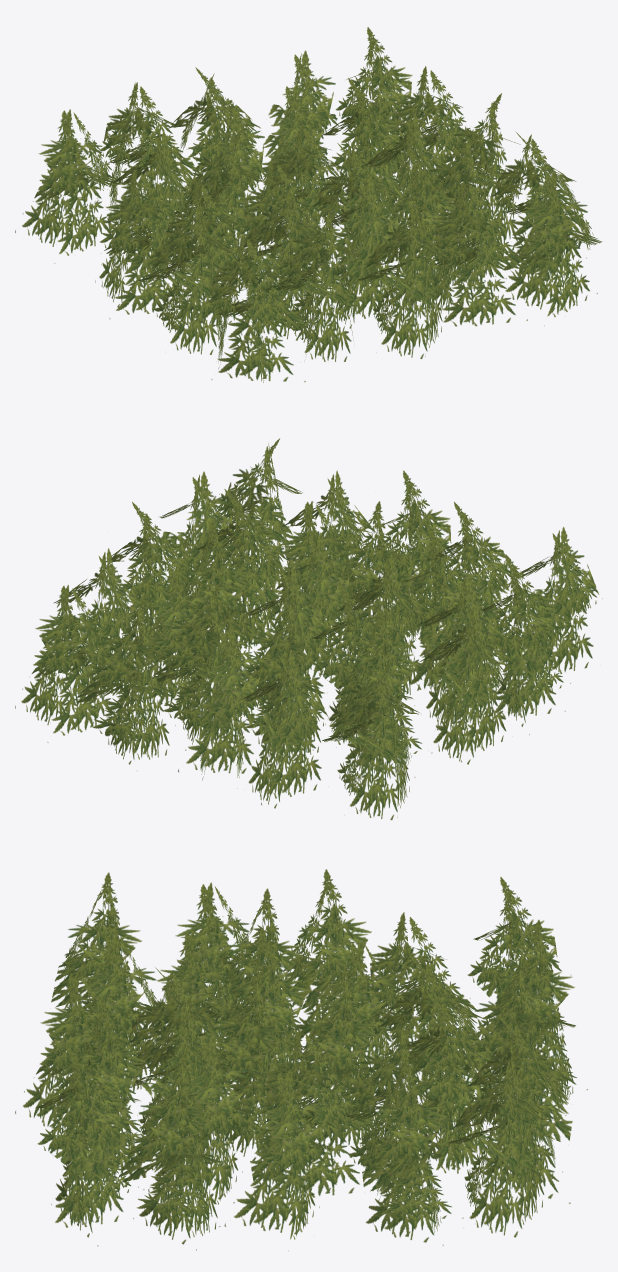
The model's file is hemp_field.gltf.
3 views of the same model, one above another, from view 1: azimuth 30°, elevation 25°; view 2: azimuth 150°, elevation 25°; view 3: azimuth 270°, elevation 25° (orthographic). The views are drawn at different scales.
Parts seen in each view (by area): view 1: _1_lod0, _2_lod0, _4_lod0, _3_lod0; view 2: _1_lod0, _2_lod0, _4_lod0, _3_lod0; view 3: _1_lod0, _2_lod0, _3_lod0, _4_lod0.
Boxes of the visible parts, <box> form: _1_lod0: <box>95,27,587,354</box>; _2_lod0: <box>100,66,528,382</box>; _4_lod0: <box>15,50,498,361</box>; _3_lod0: <box>164,67,602,340</box>; _1_lod0: <box>15,471,571,764</box>; _2_lod0: <box>53,470,602,808</box>; _4_lod0: <box>76,470,513,820</box>; _3_lod0: <box>178,438,505,788</box>; _1_lod0: <box>88,869,555,1250</box>; _2_lod0: <box>51,872,587,1251</box>; _3_lod0: <box>35,888,556,1246</box>; _4_lod0: <box>15,877,574,1204</box>.
Bounding box in the file's own units: 1.12 × 0.4227 × 1.17.
1 material, 1 textured.
